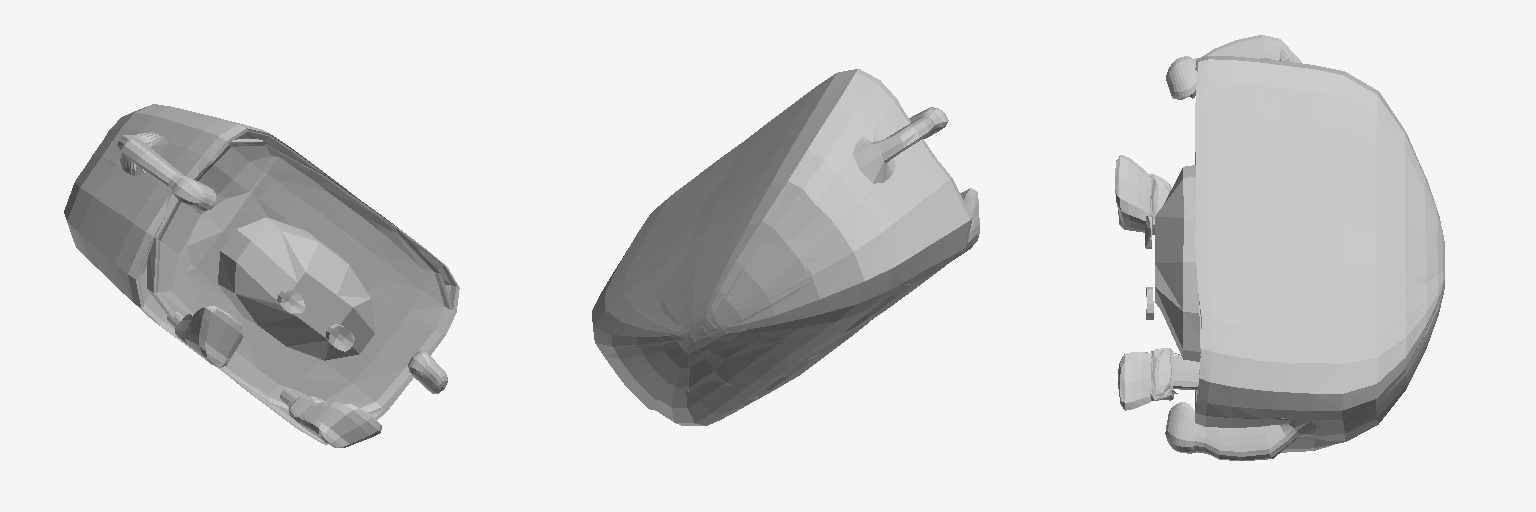
The model's file is Pal_000008.obj.
3 views of the same model, side by side, from view 1: azimuth 30°, elevation 25°; view 2: azimuth 150°, elevation 25°; view 3: azimuth 270°, elevation 25° (orthographic).
Visible parts, largest first — view 1: Cuerpo_de_aguacate_3.001_Cube.002, Hueso_Cubo.003, Ojos_Cubo.002; view 2: Cuerpo_de_aguacate_3.001_Cube.002; view 3: Cuerpo_de_aguacate_3.001_Cube.002, Hueso_Cubo.003.
Part boxes in pixels (x1,y1,x2,y2): Cuerpo_de_aguacate_3.001_Cube.002: (64, 104, 459, 447); Hueso_Cubo.003: (218, 217, 374, 360); Ojos_Cubo.002: (277, 287, 354, 351); Cuerpo_de_aguacate_3.001_Cube.002: (592, 69, 979, 425); Cuerpo_de_aguacate_3.001_Cube.002: (1115, 35, 1444, 460); Hueso_Cubo.003: (1155, 165, 1200, 361).
Size of the model in its own units: 1.16 by 1.15 by 1.01.